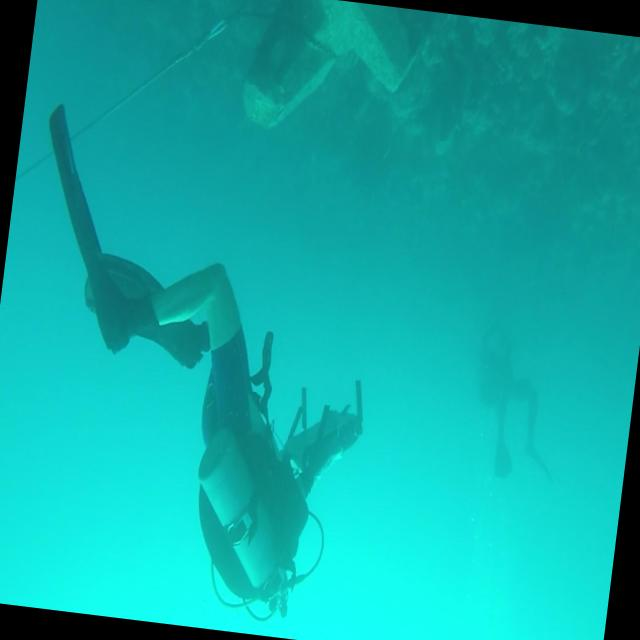human: (0, 100, 398, 631), (462, 322, 572, 488)
